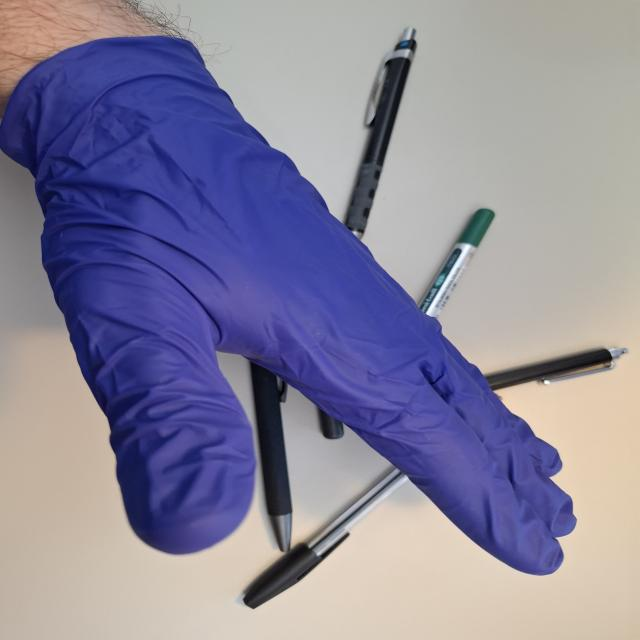glove_on: (0, 35, 583, 579)
